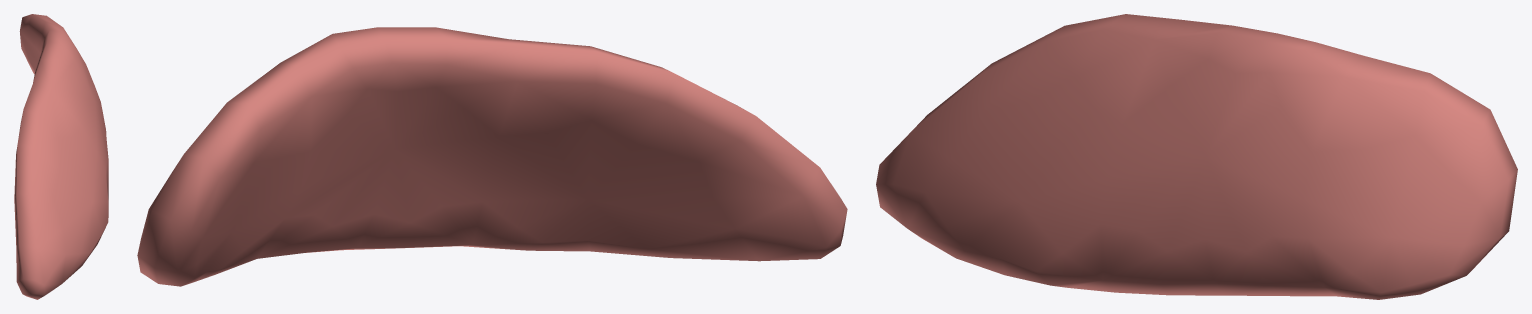
3 views of the same model, side by side, from view 1: azimuth 30°, elevation 25°; view 2: azimuth 150°, elevation 25°; view 3: azimuth 270°, elevation 25° (orthographic). The views are drawn at different scales.
Visible parts, largest first — view 1: ZA_c36060e74efba19c; view 2: ZA_c36060e74efba19c; view 3: ZA_c36060e74efba19c.
Boxes of the visible parts, x1,y1,x2,y2 form: ZA_c36060e74efba19c: [14, 14, 108, 299]; ZA_c36060e74efba19c: [137, 27, 847, 286]; ZA_c36060e74efba19c: [876, 14, 1517, 299].
Size of the model in its own units: 0.00351 by 0.00254 by 0.00507.
